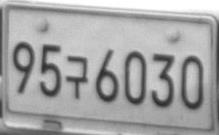0: (123, 49, 147, 104), (181, 54, 204, 110)
3: (149, 53, 175, 107)
5: (38, 43, 61, 96)
6: (94, 48, 119, 102)
9: (11, 40, 36, 94)
구: (65, 54, 88, 99)
